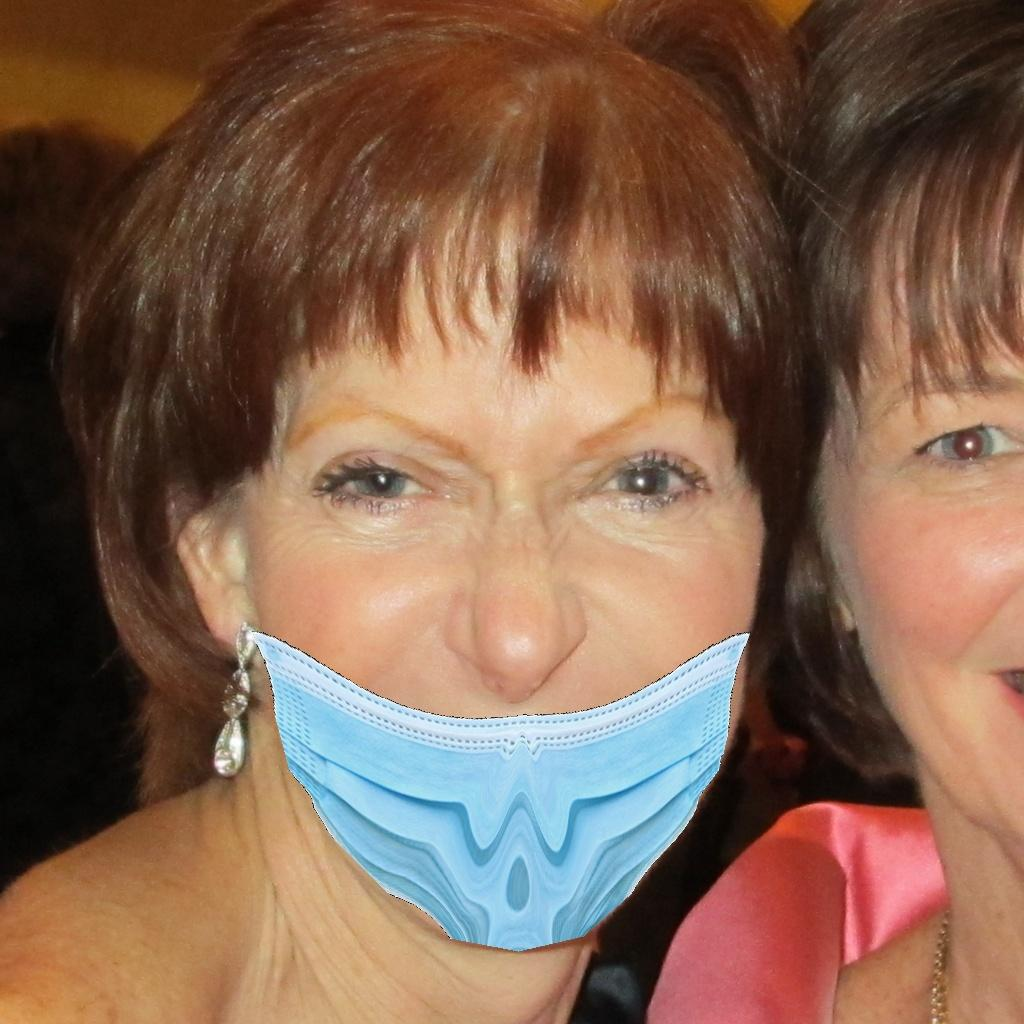Máscara Incorreta: (235, 349, 779, 937)
